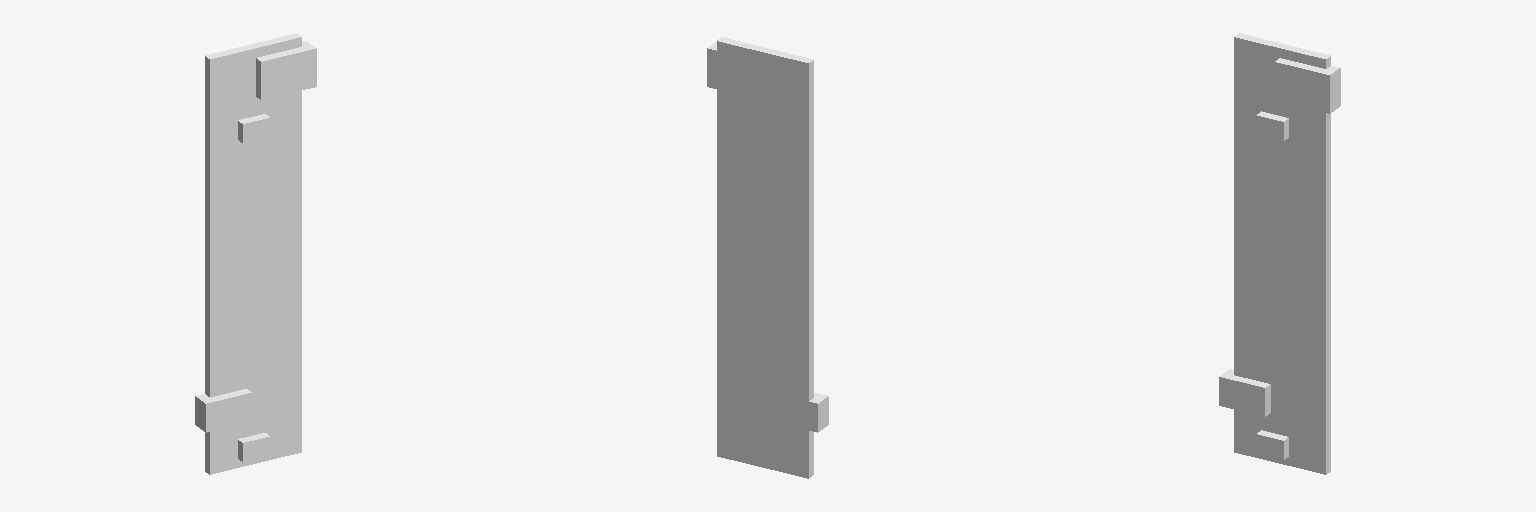
The model's file is ExtraProp-4-Wall_3.obj.
3 renders of one model, left to right at view 1: azimuth 30°, elevation 25°; view 2: azimuth 150°, elevation 25°; view 3: azimuth 330°, elevation 25°, orthographic.
Parts seen in each view (by area): view 1: Wall_3; view 2: Wall_3; view 3: Wall_3.
Part boxes in pixels (bbox=[...]): Wall_3: bbox=[195, 33, 316, 474]; Wall_3: bbox=[707, 37, 828, 478]; Wall_3: bbox=[1219, 33, 1340, 474].
Bounding box in the file's own units: 1.2 × 4.3 × 0.2.